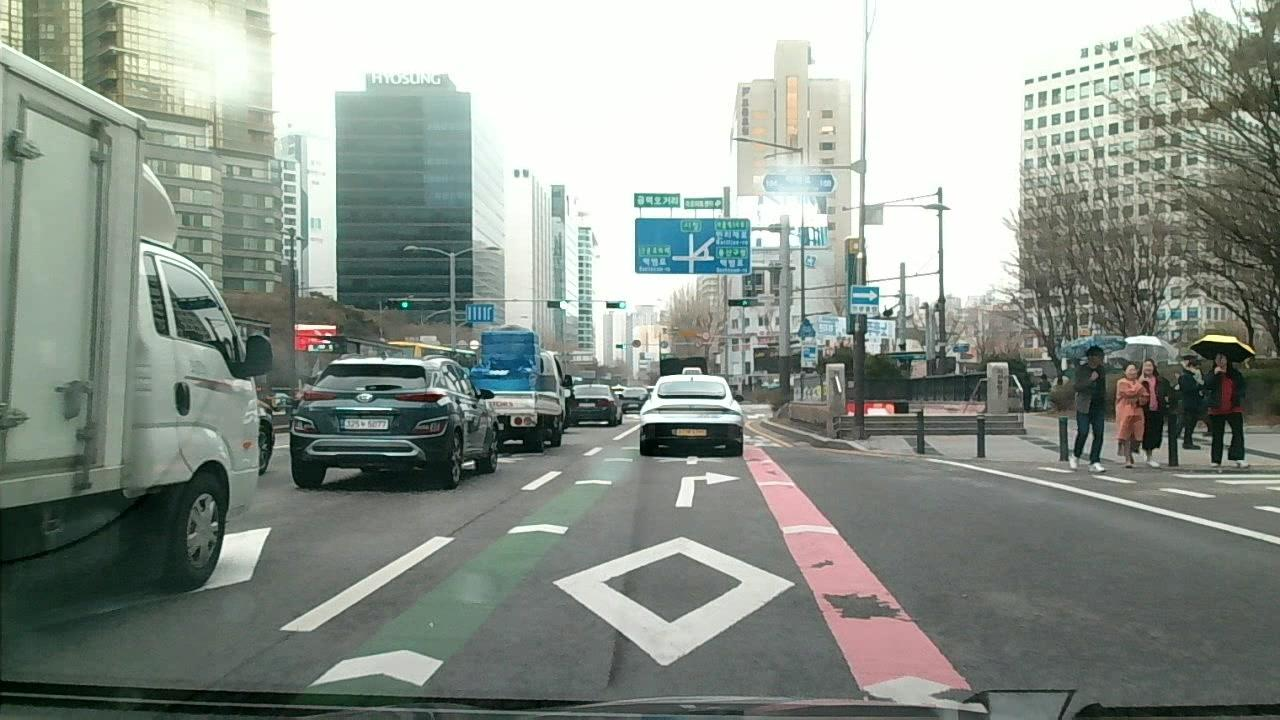vcrack: (448, 493, 519, 535)
